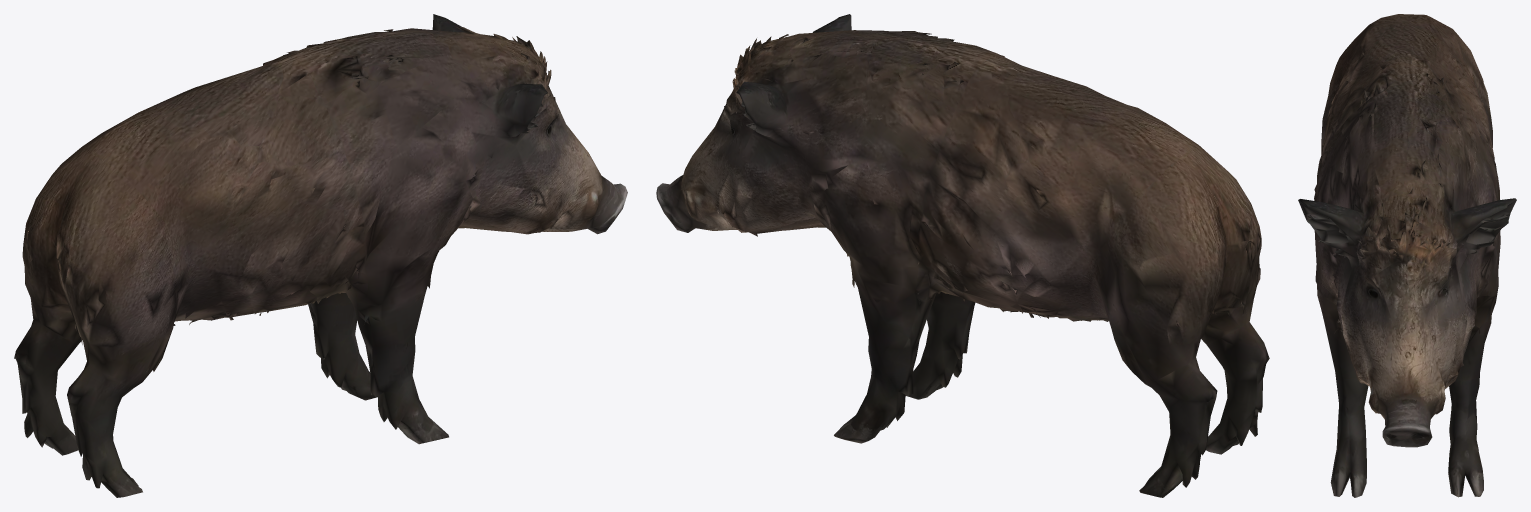
File: boar.glb
3 renders of one model, left to right at view 1: azimuth 30°, elevation 25°; view 2: azimuth 150°, elevation 25°; view 3: azimuth 270°, elevation 25°, orthographic.
Parts seen in each view (by area): view 1: tripo_node_337bb002-7224-4559-9188-eb0bee0572bb; view 2: tripo_node_337bb002-7224-4559-9188-eb0bee0572bb; view 3: tripo_node_337bb002-7224-4559-9188-eb0bee0572bb.
Boxes of the visible parts, box(x1,y1,x2,y2) form: tripo_node_337bb002-7224-4559-9188-eb0bee0572bb: box(14, 14, 627, 497); tripo_node_337bb002-7224-4559-9188-eb0bee0572bb: box(656, 14, 1269, 497); tripo_node_337bb002-7224-4559-9188-eb0bee0572bb: box(1298, 14, 1516, 497).
Size of the model in its own units: 0.9996 by 0.6289 by 0.328.
1 material, 1 textured.
